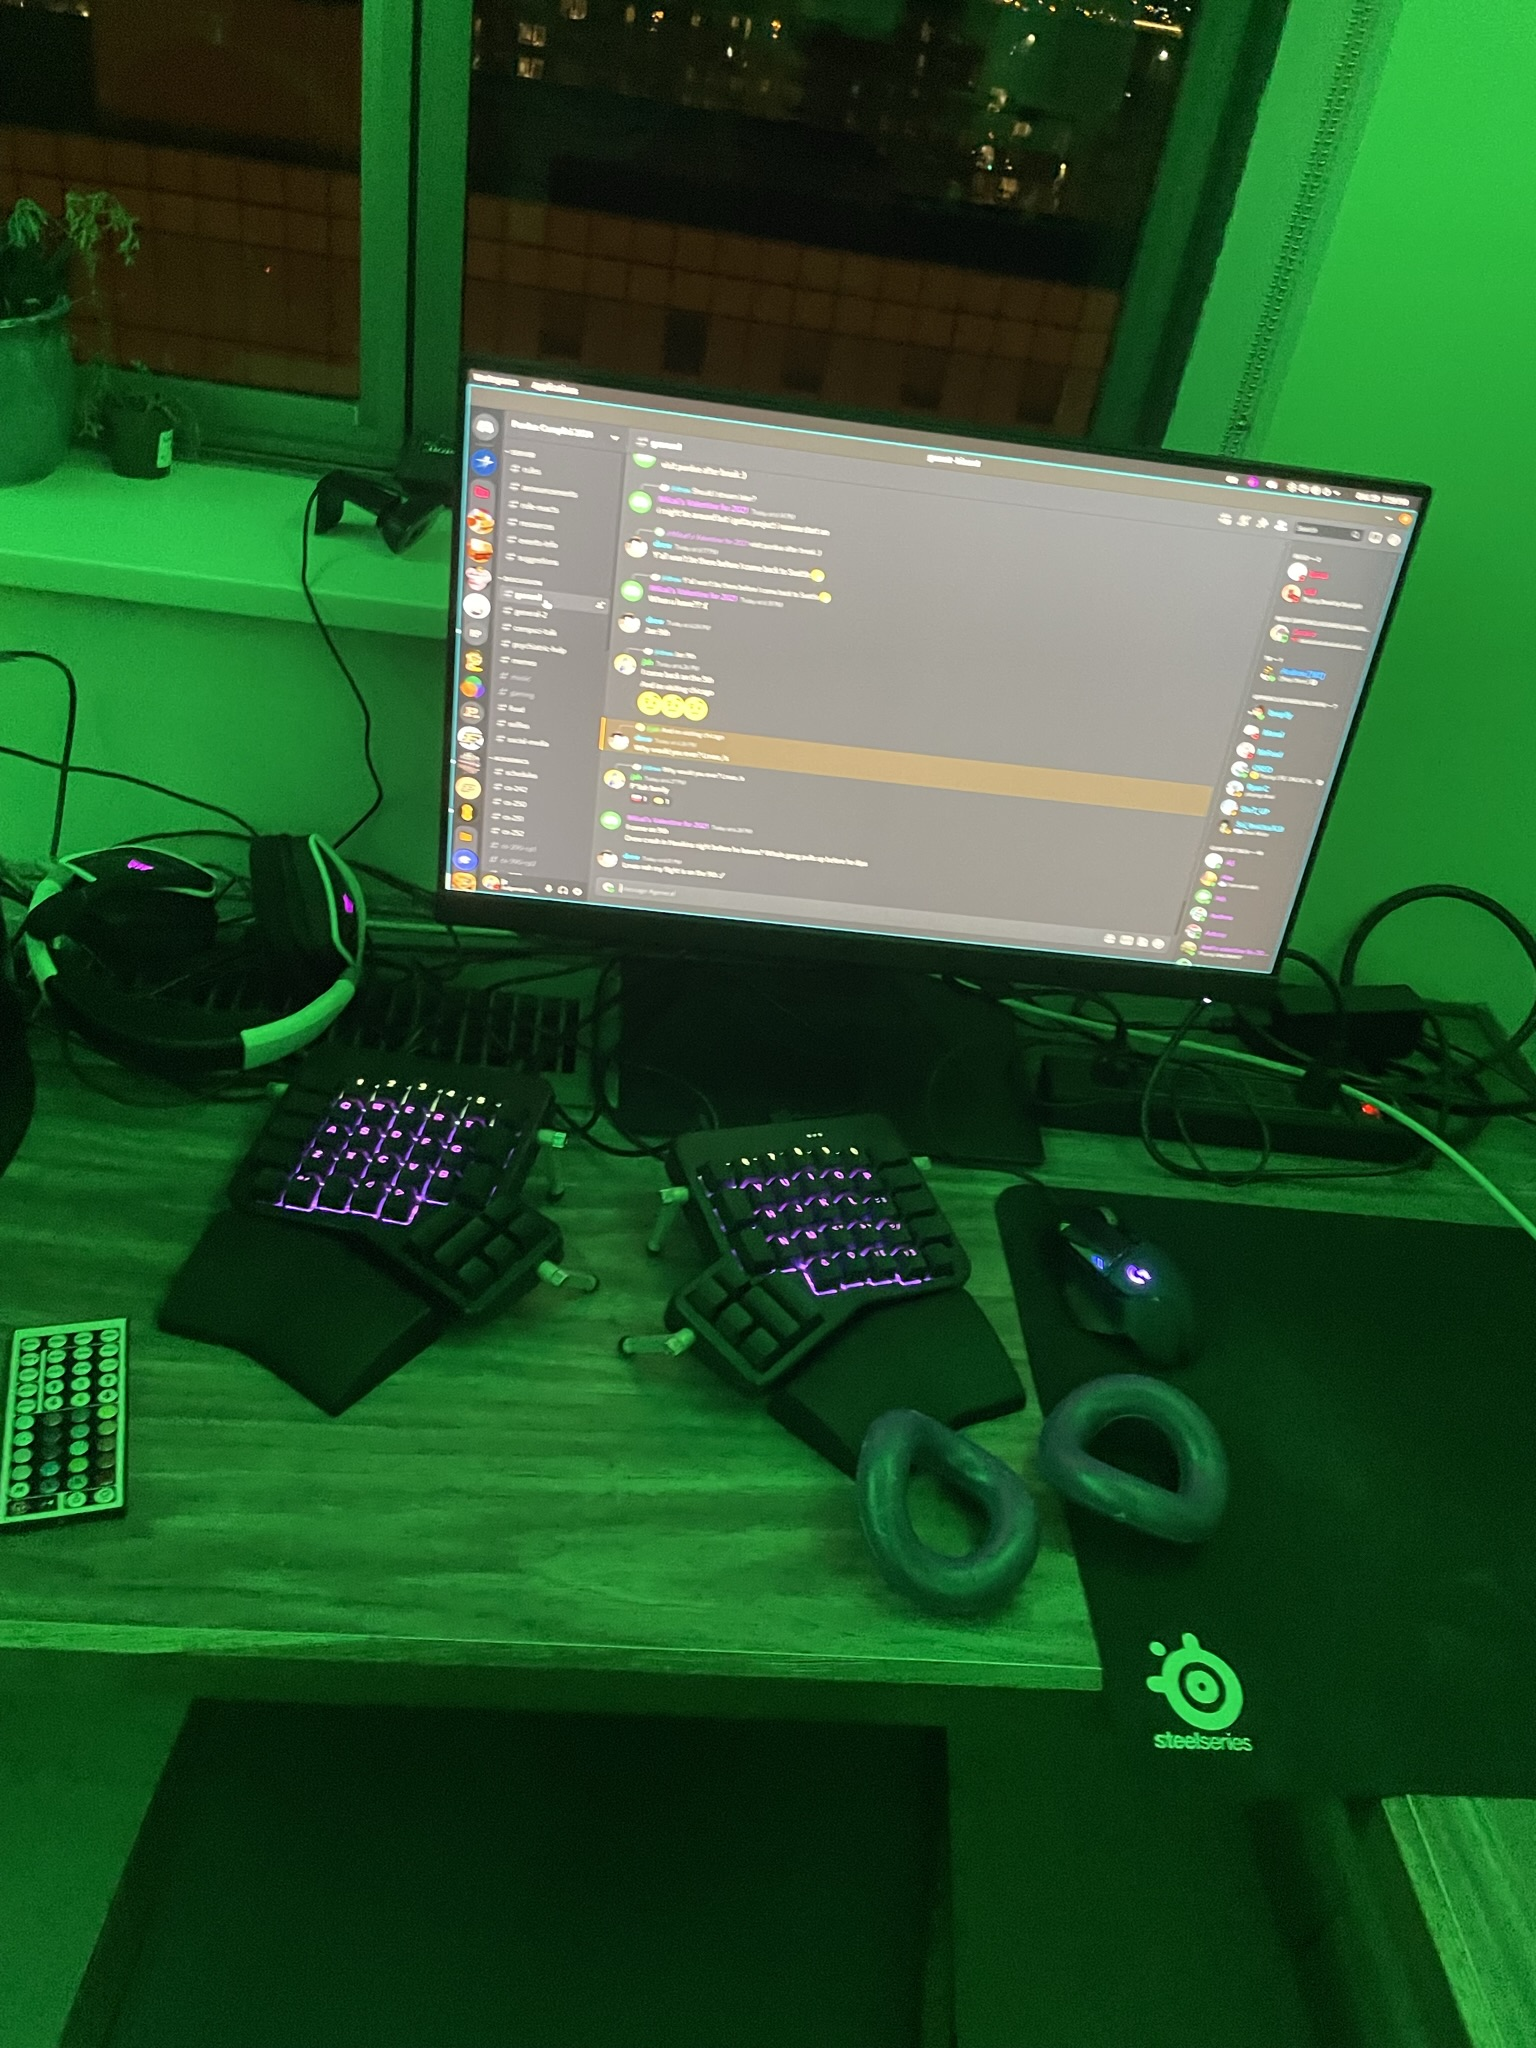ring: (854, 1408, 1046, 1609), (1036, 1372, 1238, 1548)
